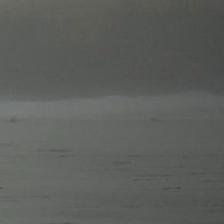surfer: (150, 116, 164, 124), (7, 115, 19, 124)
